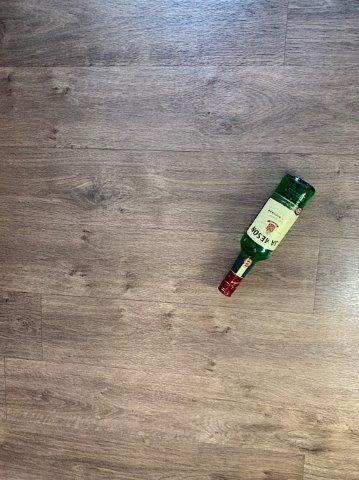botolkaca: (220, 175, 316, 294)
